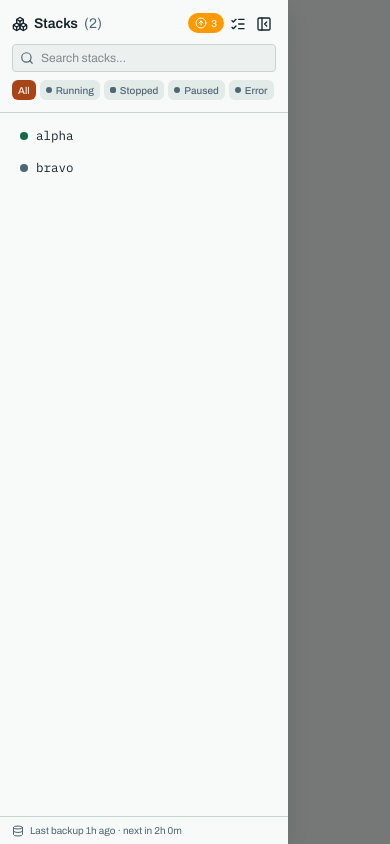
Test case: Sidebar › filters the stack list by search query and clears via the Clear button
This screenshot has width=390, height=844.
Expected: the text "alpha" is shown, [36,127,74,143]
In the field labelled "Search stacks": (144, 58) [12,44,276,72], type "alp"
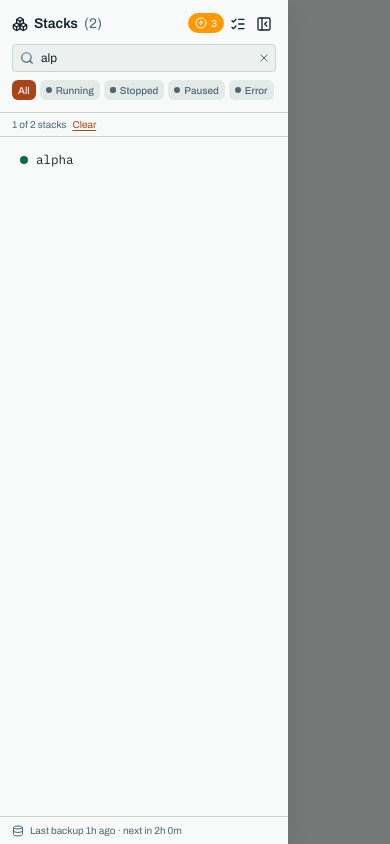
Expected: the text "alpha" is shown, [36,151,74,167]
Now the link "bravo" is gone
Now the text "1 of 2 stacks" is shown, box [0,113,288,137]
Click the button "Clear": (84, 124) [72,117,96,132]
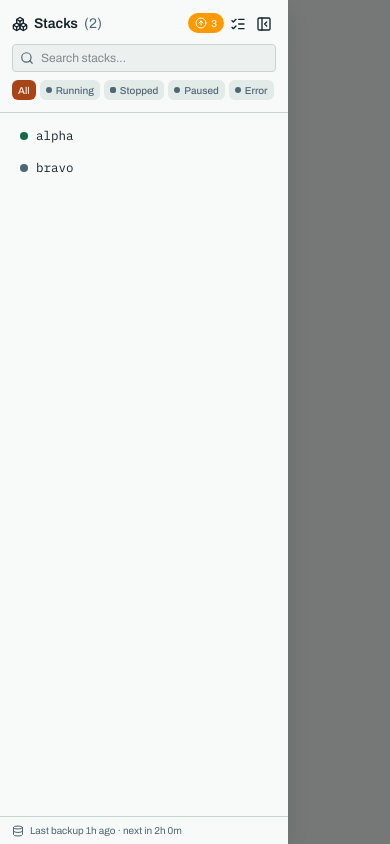
Now the text "bravo" is shown, box [36,159,74,175]
Now the text "of 2 stacks" is gone
